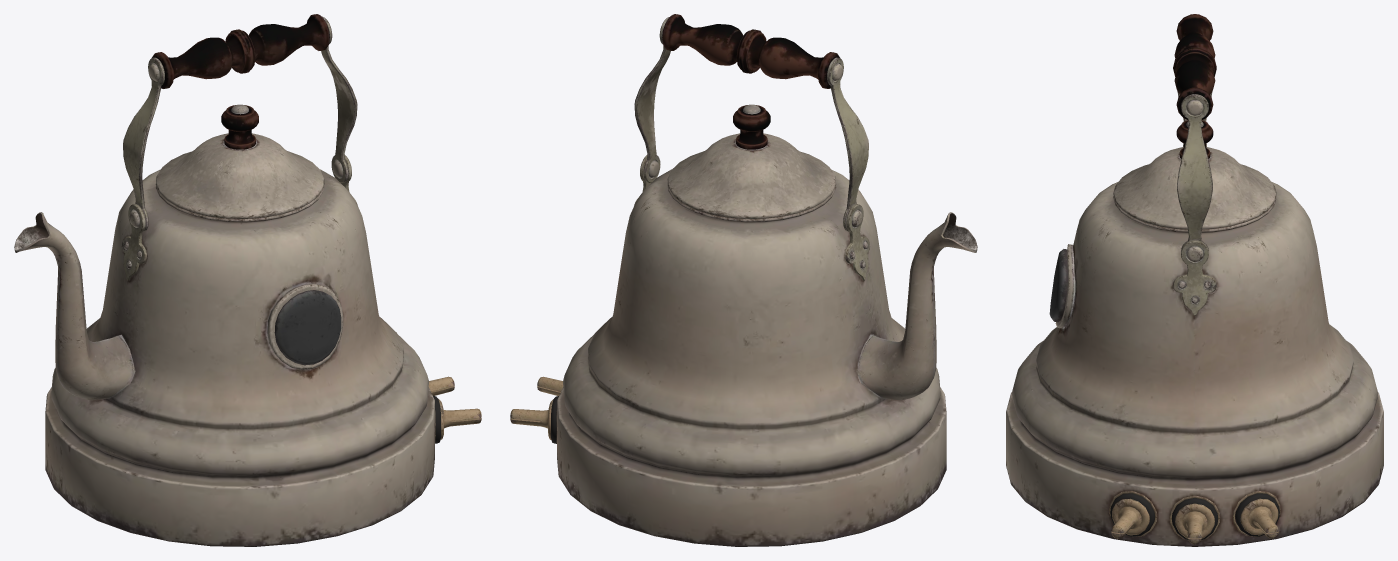
Rendered from kettle.glb.
3 views of the same model, side by side, from view 1: azimuth 30°, elevation 25°; view 2: azimuth 150°, elevation 25°; view 3: azimuth 270°, elevation 25° (orthographic). The views are drawn at different scales.
Parts seen in each view (by area): view 1: vintage_electric_kettle; view 2: vintage_electric_kettle; view 3: vintage_electric_kettle.
Boxes of the visible parts, x1,y1,x2,y2 form: vintage_electric_kettle: (14,14,481,546); vintage_electric_kettle: (510,14,977,546); vintage_electric_kettle: (1006,14,1383,546).
Bounding box in the file's own units: 0.3209 × 0.3047 × 0.2486.
Materials: 2 (2 with a texture image).
